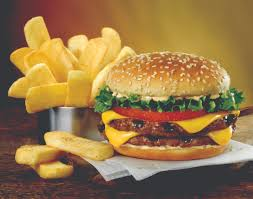hamburger: (100, 50, 237, 161)
